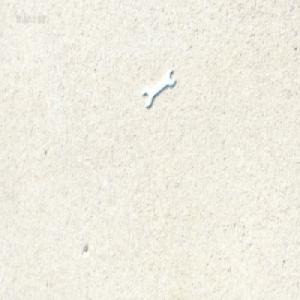Wrench: (143, 69, 176, 108)
